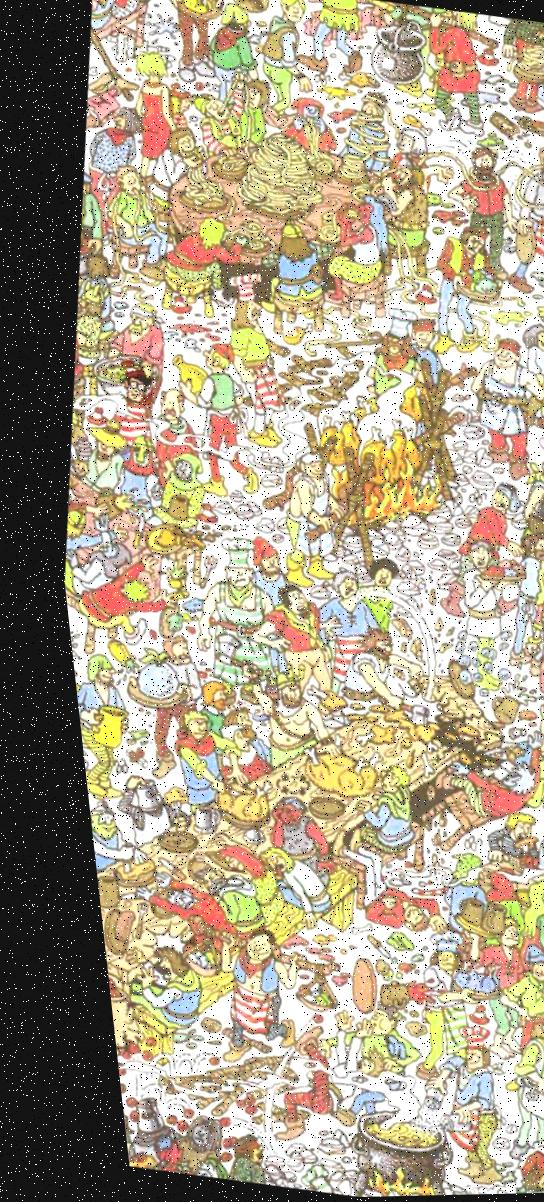waldo: (106, 359, 150, 407)
